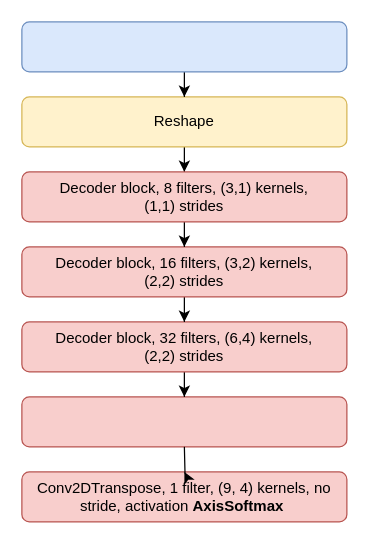
Some shapes in this 369 by 544 pixel diagram are drawn without their labels. The shapes that lost their labels are listed below. From the top down, each one's box as (x1, y1, x2, y2) in pixels, then its label:
(21, 21, 347, 72): Dense, 100 units (latent vector)
(21, 396, 347, 447): Decoder block, 64 filters, (9,4) kernels, (2,1) strides
